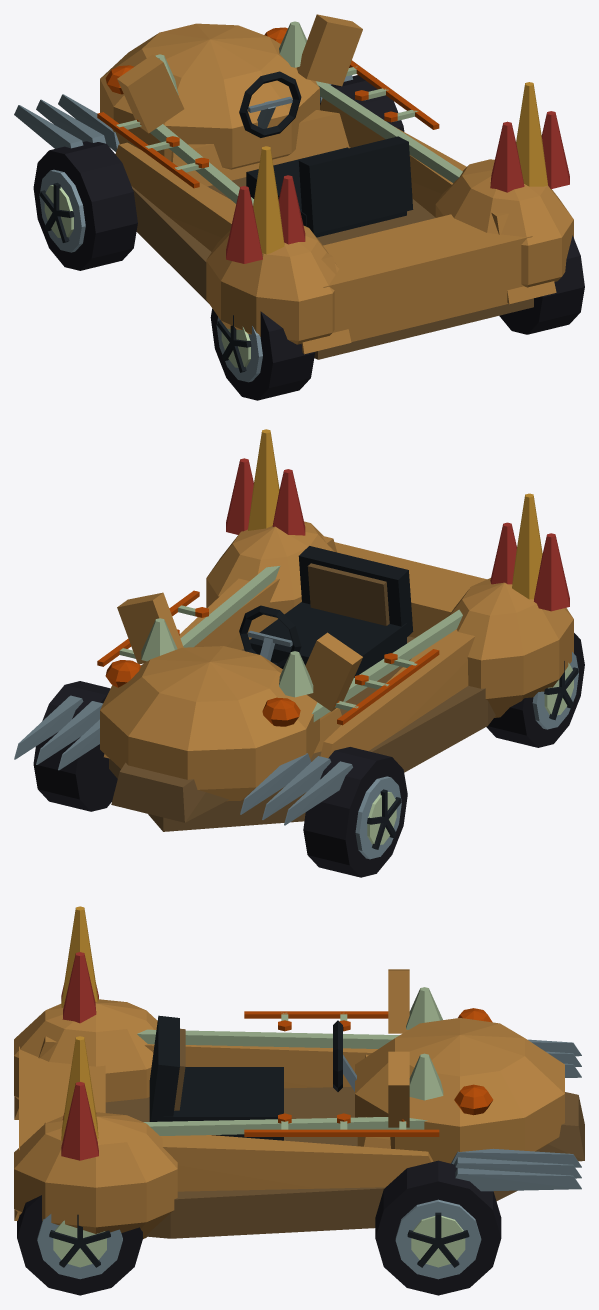
File: kart.glb
The picture shows the model from 3 angles, top to bottom: view 1: azimuth 30°, elevation 25°; view 2: azimuth 150°, elevation 25°; view 3: azimuth 270°, elevation 25°; orthographic projection.
Visible parts, largest first — view 1: identity-beast-beast-sculpted-prow-and-haunches, identity-beast-driver-cockpit, wheel-front-left, identity-beast-motif-fire, wheel-rear-left, identity-beast-motif-claws, identity-beast-motif-circuit, wheel-rear-right, wheel-front-right; view 2: identity-beast-beast-sculpted-prow-and-haunches, identity-beast-driver-cockpit, identity-beast-motif-fire, wheel-front-left, identity-beast-motif-claws, wheel-front-right, wheel-rear-left, identity-beast-motif-circuit; view 3: identity-beast-beast-sculpted-prow-and-haunches, wheel-front-right, identity-beast-driver-cockpit, wheel-rear-right, identity-beast-motif-fire, identity-beast-motif-claws, identity-beast-motif-circuit.
Boxes of the visible parts, bbox=[...] form: identity-beast-beast-sculpted-prow-and-haunches: bbox=[100, 14, 573, 359]; identity-beast-driver-cockpit: bbox=[239, 71, 413, 237]; wheel-front-left: bbox=[33, 141, 137, 270]; identity-beast-motif-fire: bbox=[226, 82, 569, 263]; wheel-rear-left: bbox=[210, 308, 314, 400]; identity-beast-motif-claws: bbox=[14, 75, 352, 151]; identity-beast-motif-circuit: bbox=[97, 60, 439, 188]; wheel-rear-right: bbox=[499, 235, 584, 334]; wheel-front-right: bbox=[320, 75, 404, 131]; identity-beast-beast-sculpted-prow-and-haunches: bbox=[100, 521, 573, 831]; identity-beast-driver-cockpit: bbox=[239, 546, 413, 677]; identity-beast-motif-fire: bbox=[226, 429, 569, 611]; wheel-front-left: bbox=[303, 747, 407, 877]; identity-beast-motif-claws: bbox=[14, 695, 352, 825]; wheel-front-right: bbox=[33, 681, 117, 811]; wheel-rear-left: bbox=[486, 633, 584, 747]; identity-beast-motif-circuit: bbox=[97, 590, 439, 725]; identity-beast-beast-sculpted-prow-and-haunches: bbox=[14, 969, 584, 1238]; wheel-front-right: bbox=[375, 1160, 501, 1295]; identity-beast-driver-cockpit: bbox=[149, 1015, 356, 1140]; wheel-rear-right: bbox=[17, 1195, 142, 1295]; identity-beast-motif-fire: bbox=[61, 906, 98, 1160]; identity-beast-motif-claws: bbox=[451, 1039, 581, 1191]; identity-beast-motif-circuit: bbox=[244, 1011, 439, 1136].
Size of the model in its own units: 2.04 by 1.37 by 2.9.
